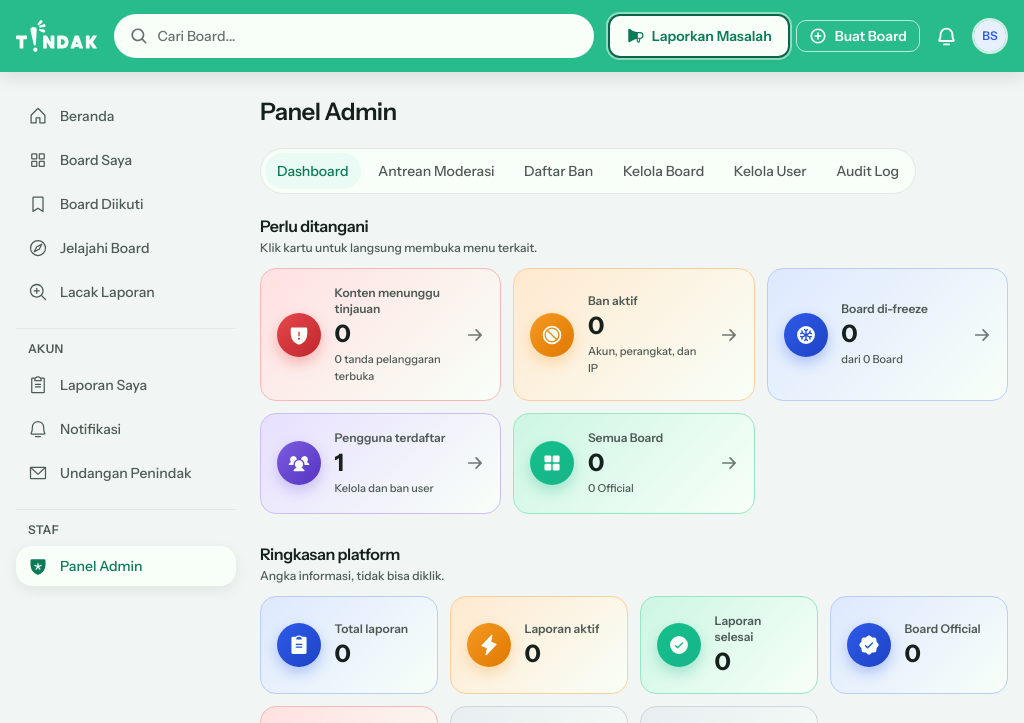
Test case: Keluar akun › Admin keluar dari Panel Admin langsung ke Beranda tanpa popup login dan cache lama hilang
Click the button with aria-label "Menu akun Budi Santoso": coordinates (990, 36) [972,18,1008,54]
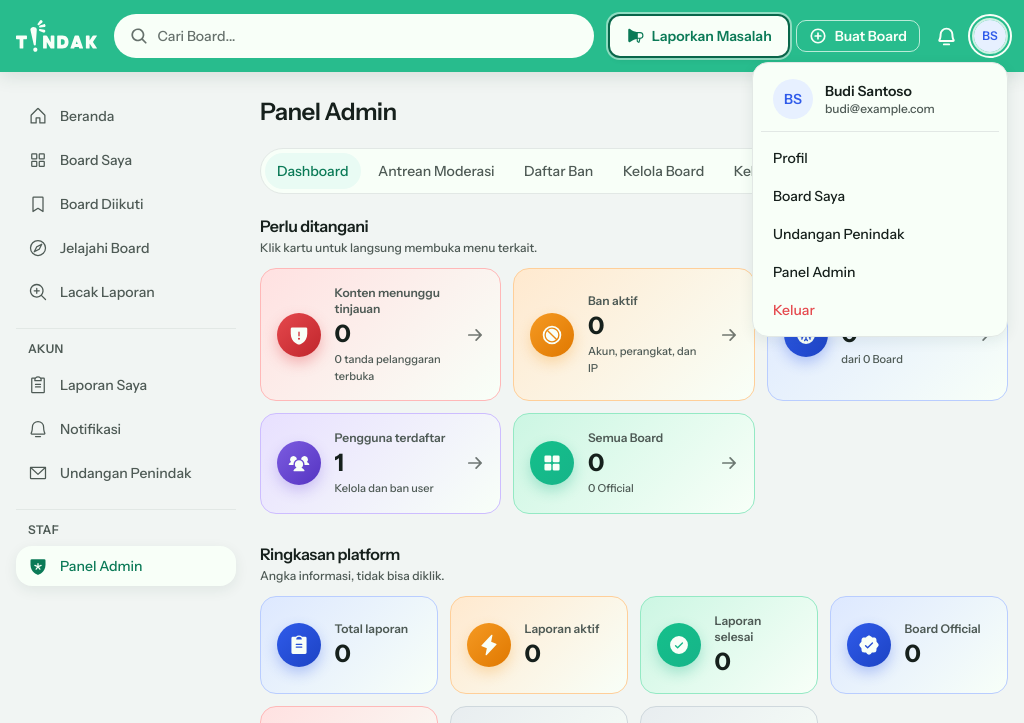
Click the menu item "Keluar": coordinates (880, 310) [761,292,999,328]
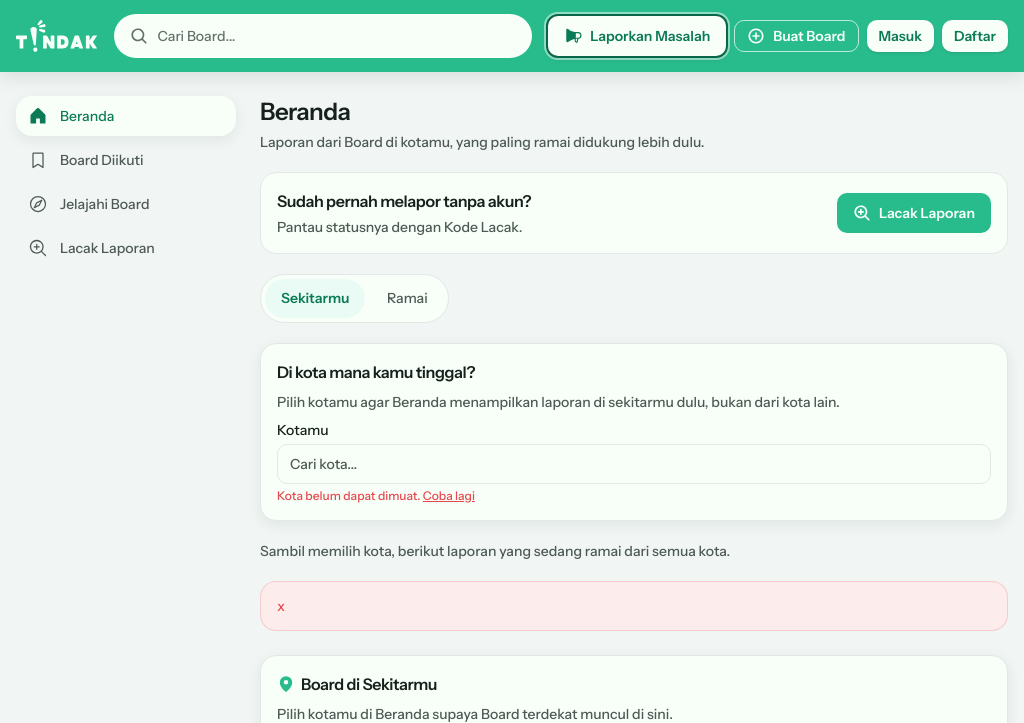
expect the heading "Beranda" is shown: met, box [260,97,350,126]
